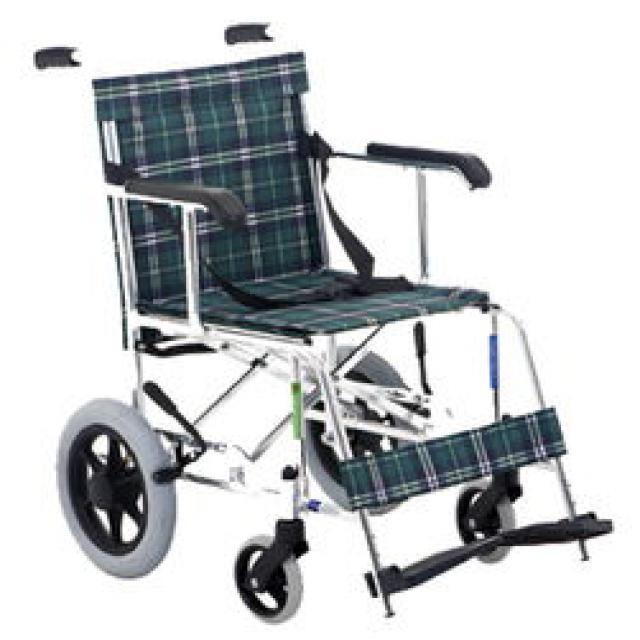wheelchair: (10, 12, 625, 638)
